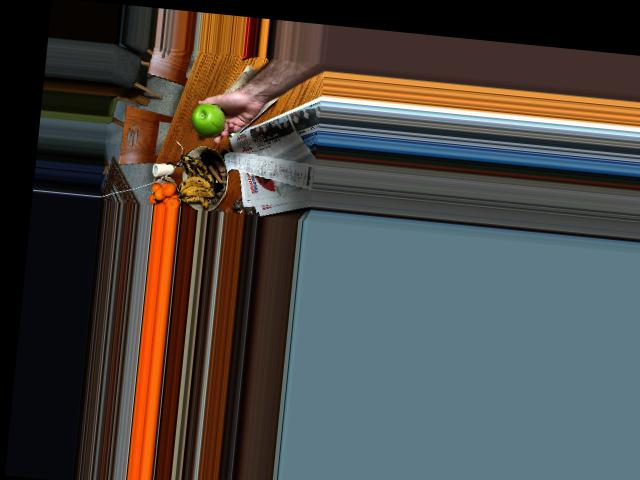apple: (189, 102, 229, 138)
